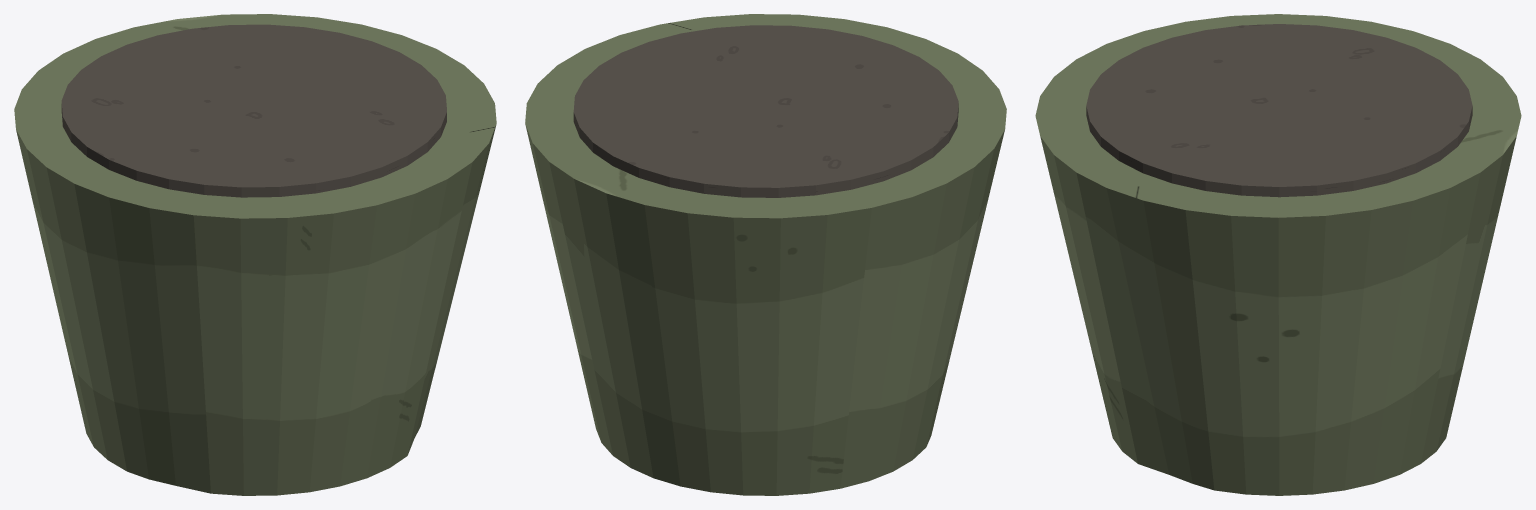
Rendered from pot.fbx.
3 views of the same model, side by side, from view 1: azimuth 30°, elevation 25°; view 2: azimuth 150°, elevation 25°; view 3: azimuth 270°, elevation 25° (orthographic).
Parts seen in each view (by area): view 1: Cylindre, Cylindre.001; view 2: Cylindre, Cylindre.001; view 3: Cylindre, Cylindre.001.
Part boxes in pixels (x1,y1,x2,y2): Cylindre: (14,14,496,495); Cylindre.001: (61,24,446,197); Cylindre: (525,14,1006,495); Cylindre.001: (573,25,958,197); Cylindre: (1035,14,1521,495); Cylindre.001: (1086,24,1472,197).
Size of the model in its own units: 284 by 207 by 286.
